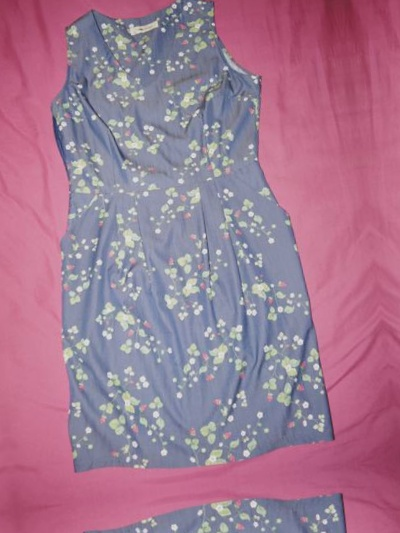Dress: (0, 0, 372, 502), (52, 467, 400, 533), (362, 0, 400, 450), (0, 521, 49, 533)
